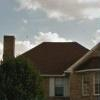Chimney: (4, 26, 18, 63)
